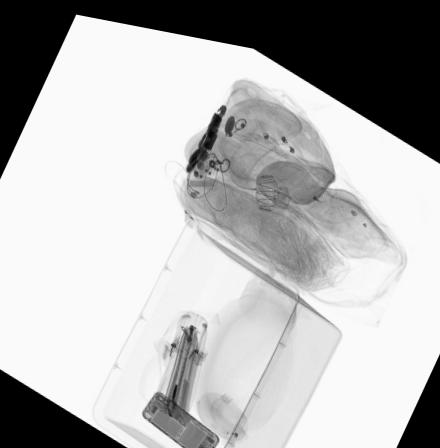Knife: (200, 102, 226, 143)
